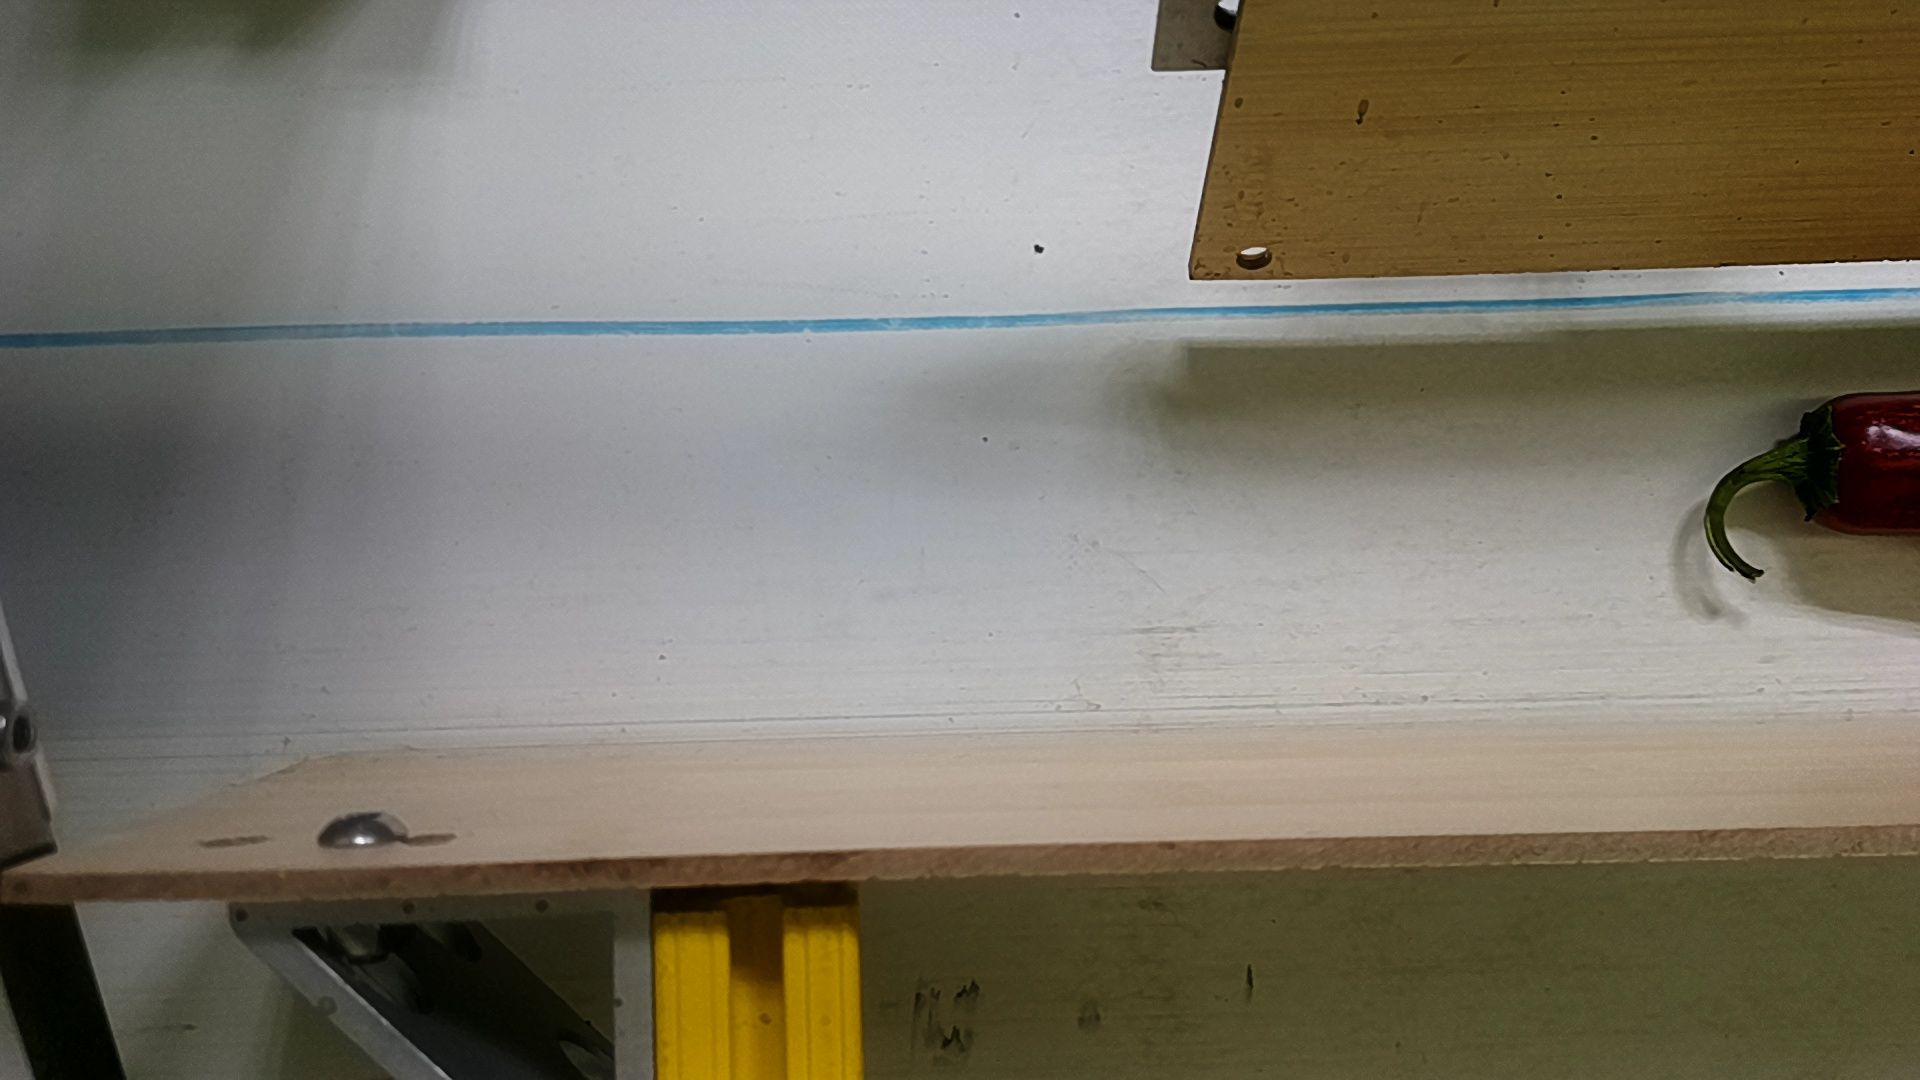Cut Point: (1780, 382, 1880, 545)
